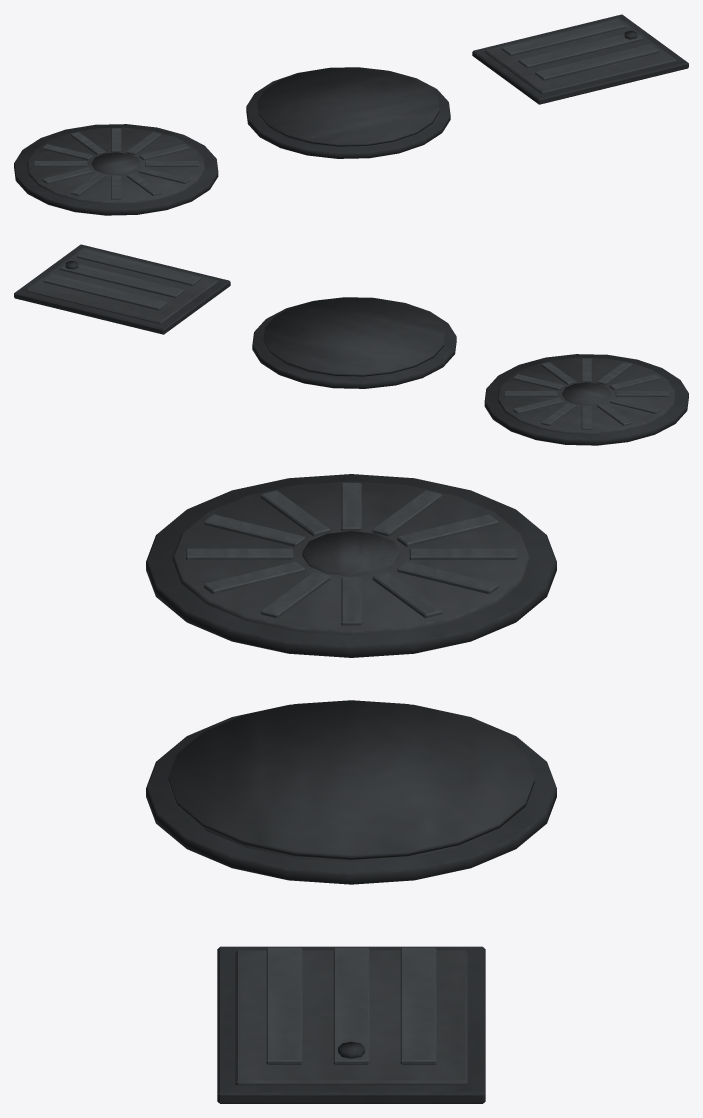
Rendered from manhole.glb.
The picture shows the model from 3 angles, top to bottom: view 1: azimuth 30°, elevation 25°; view 2: azimuth 150°, elevation 25°; view 3: azimuth 270°, elevation 25°; orthographic projection. The views are drawn at different scales.
Visible parts, largest first — view 1: manhole_v2, manhole_v1, manhole_v3; view 2: manhole_v2, manhole_v1, manhole_v3; view 3: manhole_v2, manhole_v1, manhole_v3.
Part boxes in pixels (x1,y1,x2,y2): manhole_v2: [246, 67, 450, 158]; manhole_v1: [14, 124, 218, 215]; manhole_v3: [472, 14, 688, 104]; manhole_v2: [252, 297, 456, 388]; manhole_v1: [484, 354, 688, 445]; manhole_v3: [14, 244, 230, 334]; manhole_v2: [146, 700, 556, 884]; manhole_v1: [146, 474, 556, 657]; manhole_v3: [217, 946, 485, 1103].
Size of the model in its own units: 3.25 by 0.082 by 0.92.
2 materials, 2 textured.
